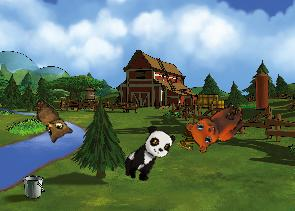bear: (180, 90, 250, 159)
owl: (22, 97, 76, 148)
panda: (118, 121, 178, 188)
